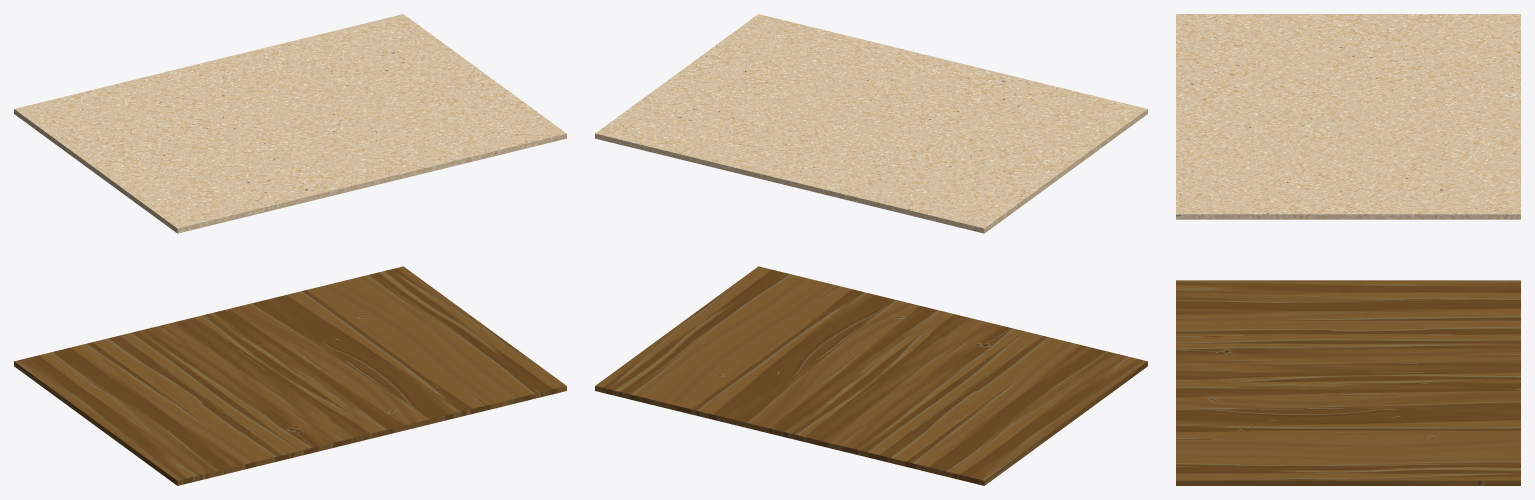
File: floor.FBX
3 renders of one model, left to right at view 1: azimuth 30°, elevation 25°; view 2: azimuth 150°, elevation 25°; view 3: azimuth 270°, elevation 25°, orthographic. The views are drawn at different scales.
Parts seen in each view (by area): view 1: Box004, Box025; view 2: Box004, Box025; view 3: Box004, Box025.
Part boxes in pixels (<box>): Box004: <box>14,266,566,485</box>; Box025: <box>14,14,566,233</box>; Box004: <box>595,266,1147,485</box>; Box025: <box>595,14,1147,233</box>; Box004: <box>1176,280,1520,485</box>; Box025: <box>1176,14,1520,219</box>.
Size of the model in its own units: 3103 by 1960 by 2255.
